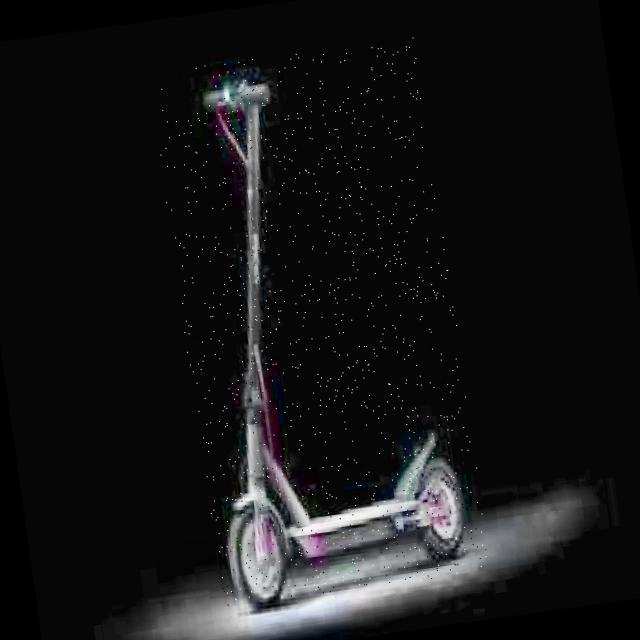bike: (218, 59, 470, 615)
